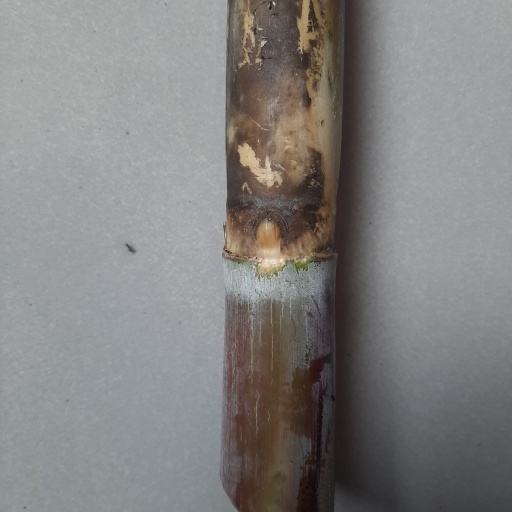Bud: (254, 219, 281, 247)
